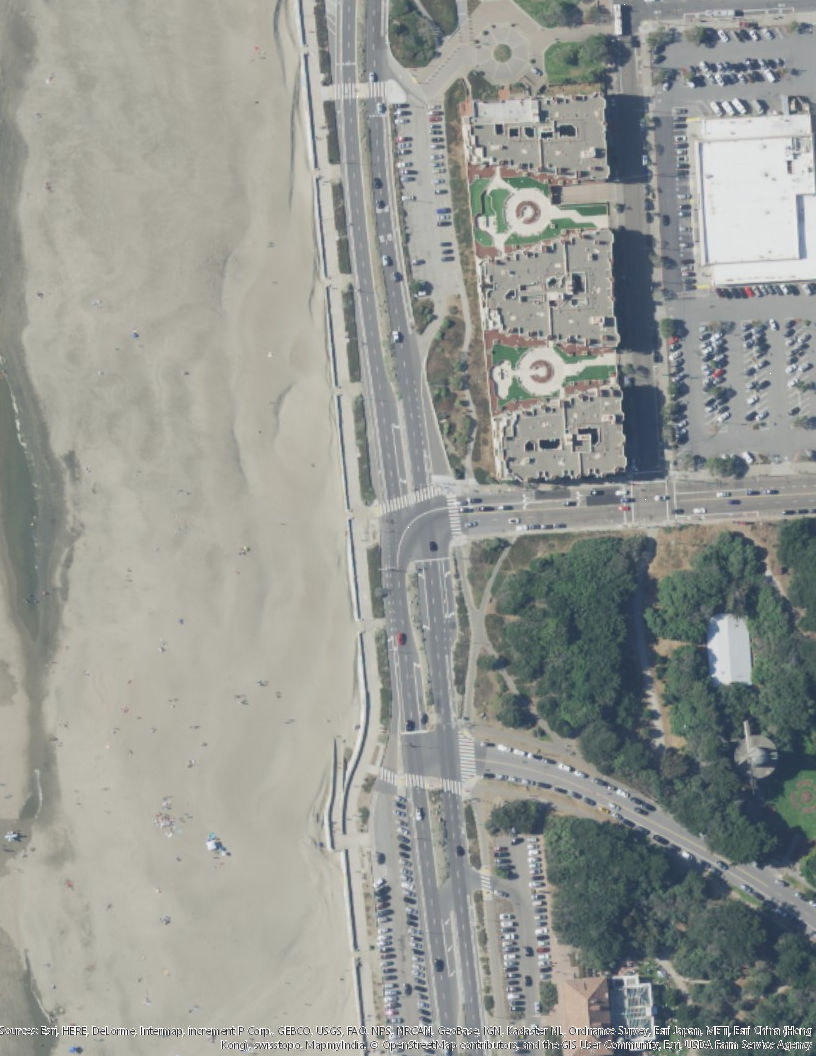zebracross: (457, 729, 476, 780), (380, 490, 412, 513), (447, 492, 463, 537), (415, 483, 441, 505), (404, 770, 426, 788), (332, 82, 356, 98), (440, 777, 463, 793), (366, 80, 387, 97), (378, 764, 396, 780), (480, 874, 492, 890)
